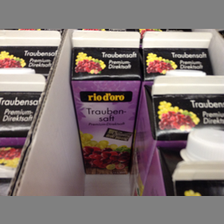juice: (71, 31, 143, 175)
